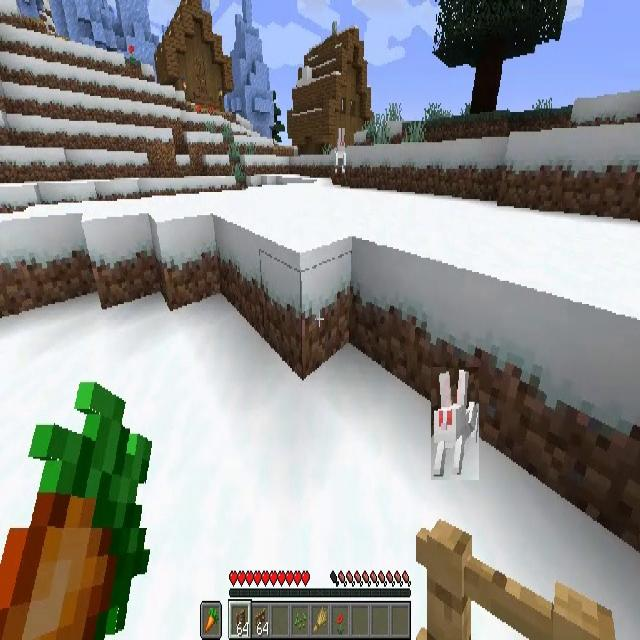rabbit: (432, 367, 479, 480), (336, 129, 346, 174)
